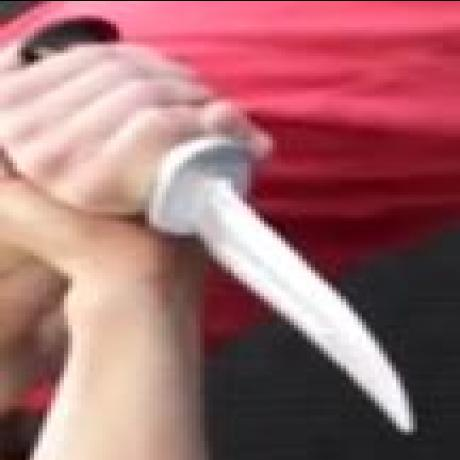weapon: (142, 154, 420, 437)
